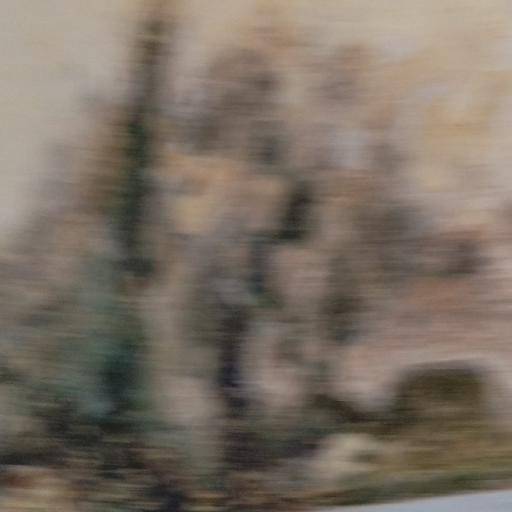algae: (16, 2, 485, 504)
